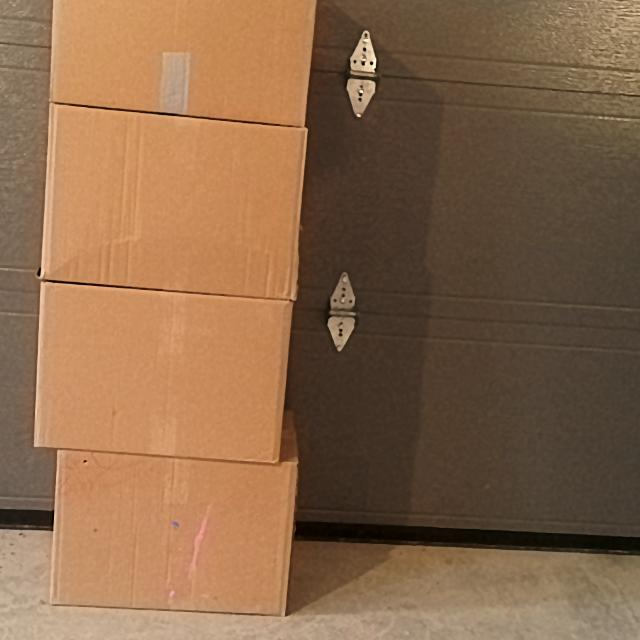box: (45, 121, 306, 280), (33, 296, 287, 450), (53, 456, 295, 612), (49, 0, 311, 111)
